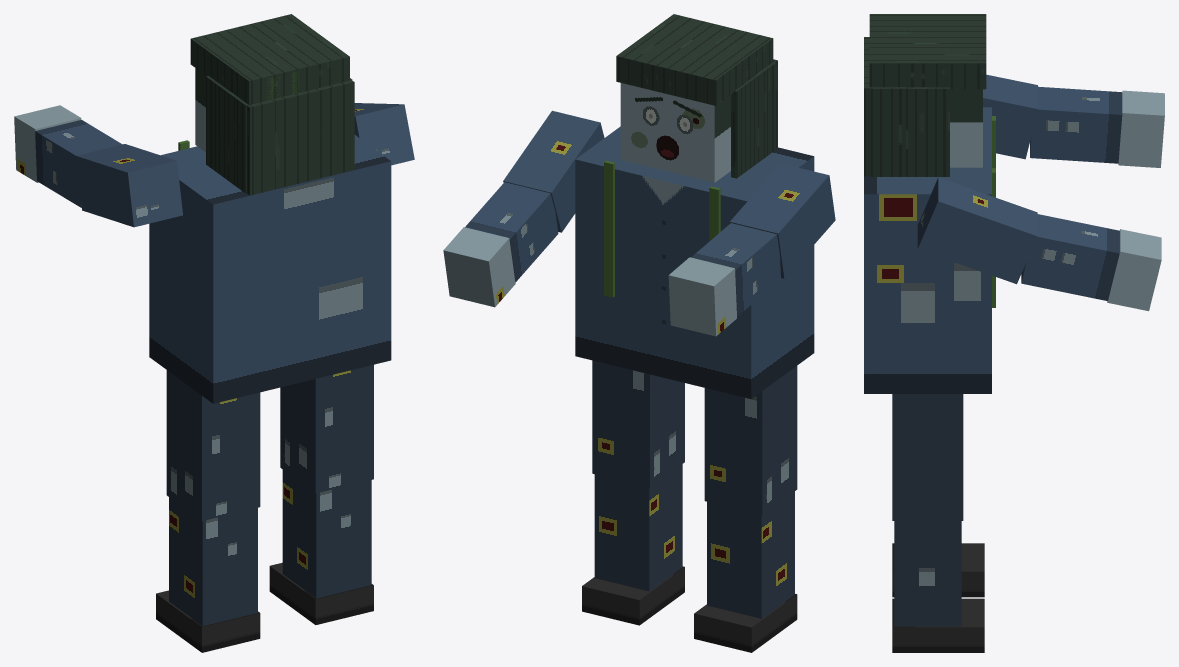
File: revenant_drowned.glb
The picture shows the model from 3 angles, left to right: view 1: azimuth 30°, elevation 25°; view 2: azimuth 150°, elevation 25°; view 3: azimuth 270°, elevation 25°; orthographic projection.
Parts seen in each view (by area): view 1: block_torso, block_thigh.L, block_thigh.R, block_hair-long, block_hair-cap, block_shin.R, block_shin.L, block_upper_arm.L, block_forearm.L, block_hair-lock, block_foot.R, block_foot.L (+3 smaller); view 2: block_torso, block_thigh.L, block_thigh.R, block_hair-cap, block_shin.R, block_shin.L, block_head, block_upper_arm.L, block_upper_arm.R, block_forearm.R, block_hand.L, block_hand.R (+5 smaller); view 3: block_torso, block_thigh.R, block_hair-cap, block_upper_arm.R, block_shin.R, block_hair-lock, block_forearm.L, block_forearm.R, block_upper_arm.L, block_hand.R, block_hand.L, block_foot.R (+3 smaller).
Boxes of the visible parts, bbox=[...] form: block_torso: bbox=[149, 135, 391, 403]; block_thigh.L: bbox=[166, 370, 260, 521]; block_thigh.R: bbox=[280, 364, 373, 493]; block_hair-long: bbox=[235, 79, 354, 195]; block_hair-cap: bbox=[190, 14, 349, 104]; block_shin.R: bbox=[282, 470, 371, 598]; block_shin.L: bbox=[169, 497, 257, 626]; block_upper_arm.L: bbox=[76, 144, 182, 227]; block_forearm.L: bbox=[35, 120, 122, 207]; block_hair-lock: bbox=[206, 76, 247, 193]; block_foot.R: bbox=[269, 562, 373, 624]; block_foot.L: bbox=[156, 590, 260, 652]; block_torso: bbox=[575, 126, 814, 398]; block_thigh.L: bbox=[704, 366, 797, 514]; block_thigh.R: bbox=[592, 360, 684, 487]; block_hair-cap: bbox=[616, 14, 773, 105]; block_shin.R: bbox=[594, 464, 682, 591]; block_shin.L: bbox=[707, 491, 794, 618]; block_head: bbox=[620, 83, 730, 182]; block_upper_arm.L: bbox=[729, 163, 835, 278]; block_upper_arm.R: bbox=[503, 110, 604, 232]; block_forearm.R: bbox=[465, 182, 558, 282]; block_hand.L: bbox=[668, 257, 736, 336]; block_hand.R: bbox=[443, 227, 515, 307]; block_torso: bbox=[864, 107, 991, 393]; block_thigh.R: bbox=[892, 394, 963, 520]; block_hair-cap: bbox=[869, 14, 986, 89]; block_upper_arm.R: bbox=[917, 177, 1037, 284]; block_shin.R: bbox=[894, 521, 961, 626]; block_hair-lock: bbox=[870, 87, 949, 176]; block_forearm.L: bbox=[1030, 86, 1122, 163]; block_forearm.R: bbox=[1021, 214, 1119, 300]; block_upper_arm.L: bbox=[983, 74, 1037, 159]; block_hand.R: bbox=[1107, 229, 1161, 311]; block_hand.L: bbox=[1118, 90, 1164, 167]; block_foot.R: bbox=[892, 598, 984, 652].
Bounding box in the file's own units: 0.908 × 1.78 × 0.8476.
Materials: 1 (1 with a texture image).
